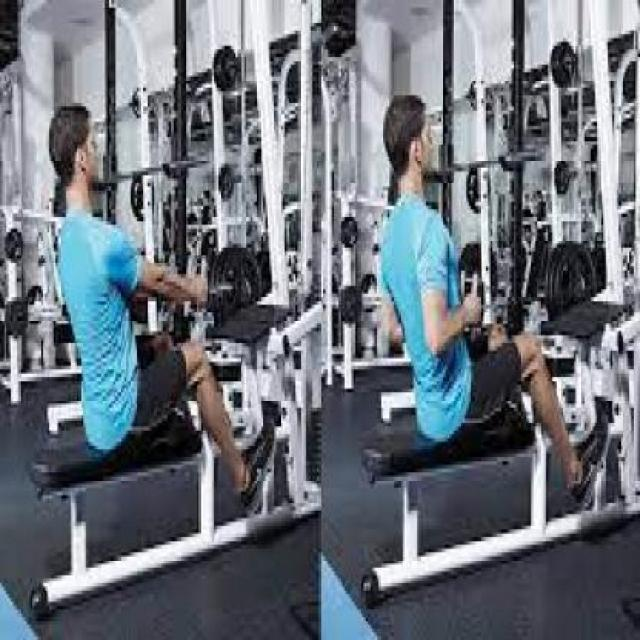Seated Cable Rows: (16, 82, 322, 616), (337, 68, 640, 597)
